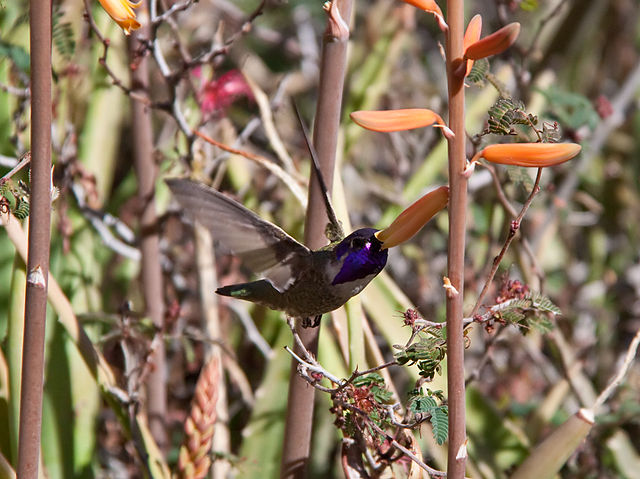calypte costae: (162, 178, 387, 328)
